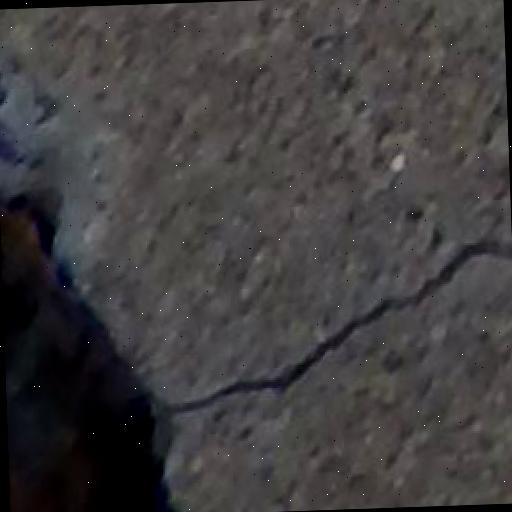spalling: (159, 207, 512, 439)
